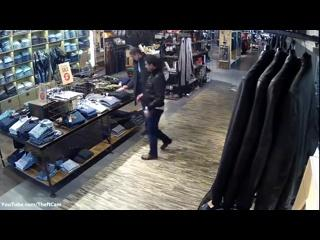Normal: (197, 45, 319, 208), (137, 55, 173, 160), (122, 47, 149, 115)
